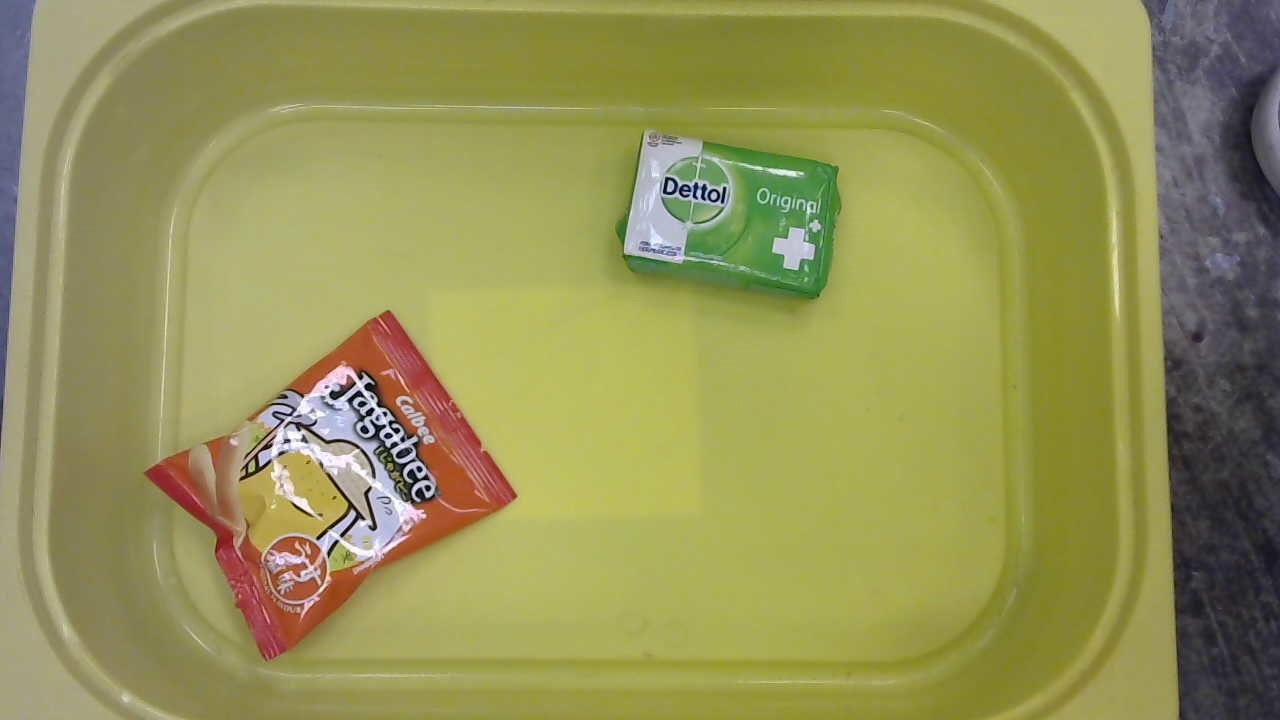Dettol: (616, 123, 848, 307)
JagabeeFarmer: (136, 306, 523, 667)
